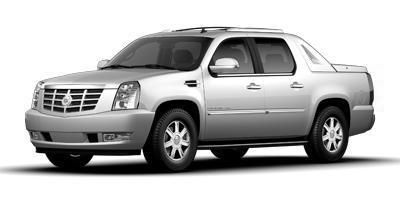car: (22, 24, 378, 170)
